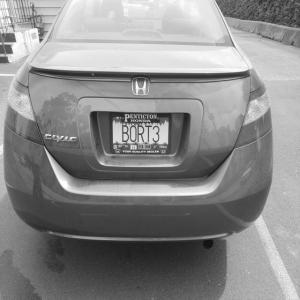Plate: (110, 113, 172, 154)
